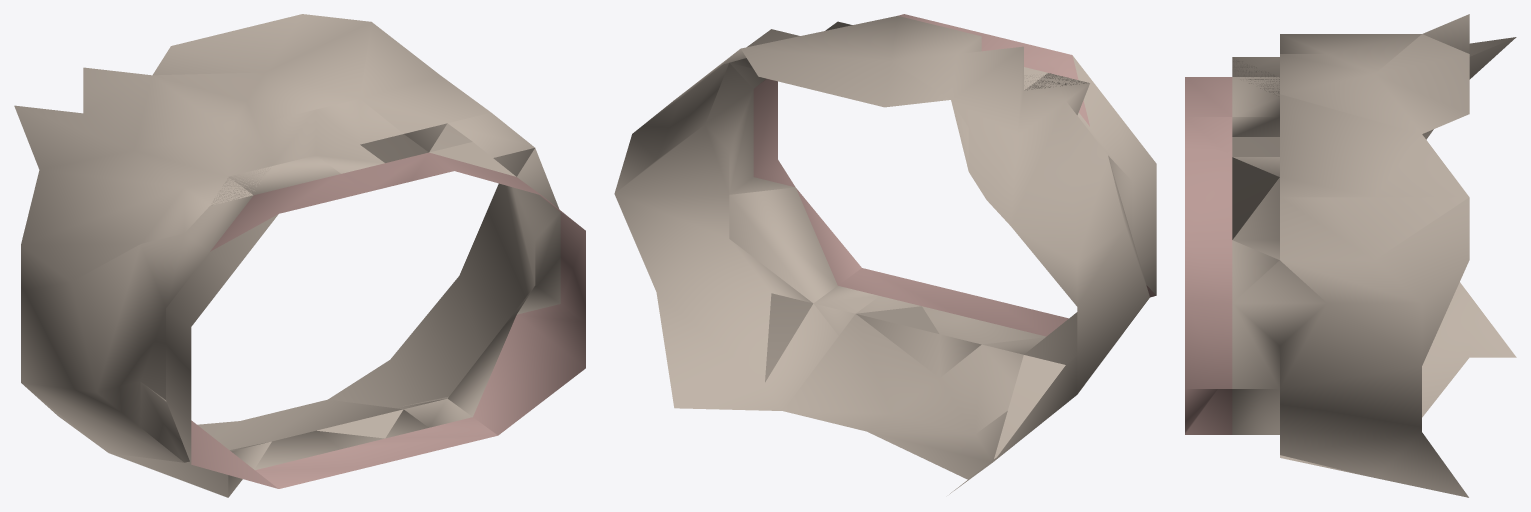
File: m_jet_5c12873f.glb
3 renders of one model, left to right at view 1: azimuth 30°, elevation 25°; view 2: azimuth 150°, elevation 25°; view 3: azimuth 270°, elevation 25°, orthographic. The views are drawn at different scales.
Parts seen in each view (by area): view 1: mesh; view 2: mesh; view 3: mesh.
Part boxes in pixels (left/top/right/bottom): mesh: left=14, top=14, right=585, bottom=497; mesh: left=614, top=14, right=1156, bottom=494; mesh: left=1185, top=14, right=1516, bottom=497.
Bounding box in the file's own units: 11 × 8 × 7.
